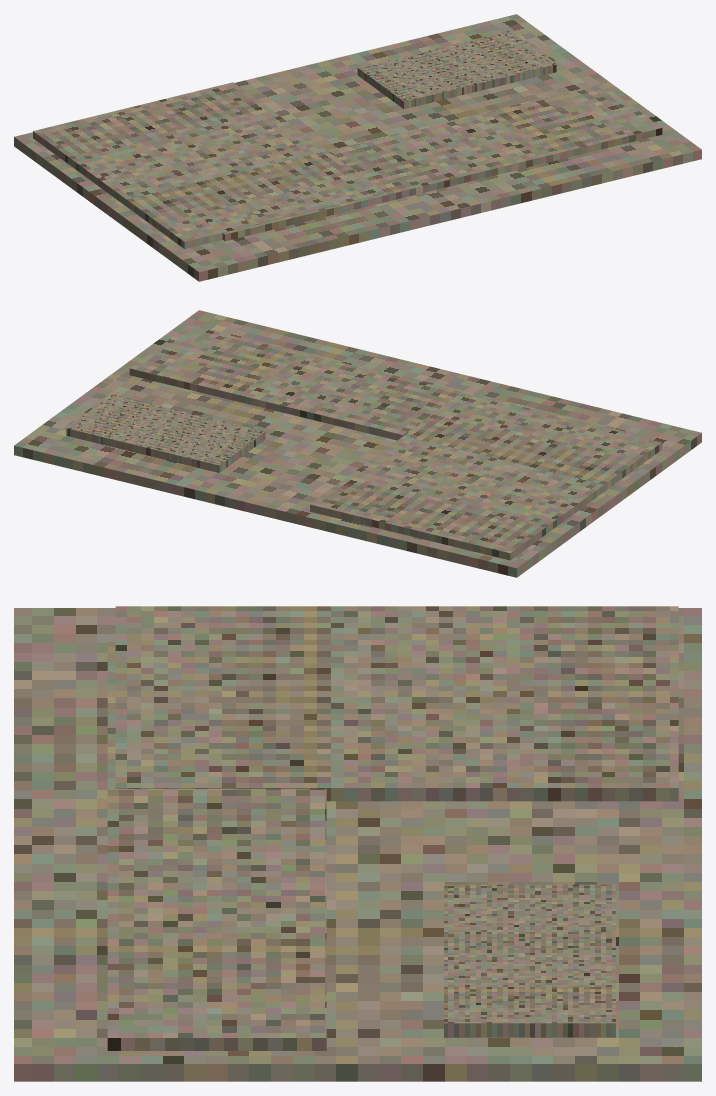
File: Blanket.glb
3 views of the same model, one above another, from view 1: azimuth 30°, elevation 25°; view 2: azimuth 150°, elevation 25°; view 3: azimuth 270°, elevation 25° (orthographic). The views are drawn at different scales.
Parts seen in each view (by area): view 1: Blanket; view 2: Blanket; view 3: Blanket.
Boxes of the visible parts, bbox=[...] form: Blanket: bbox=[14, 14, 701, 281]; Blanket: bbox=[14, 310, 701, 577]; Blanket: bbox=[14, 606, 701, 1081].
Bounding box in the file's own units: 1.38 × 0.045 × 0.88.
1 material, 1 textured.
